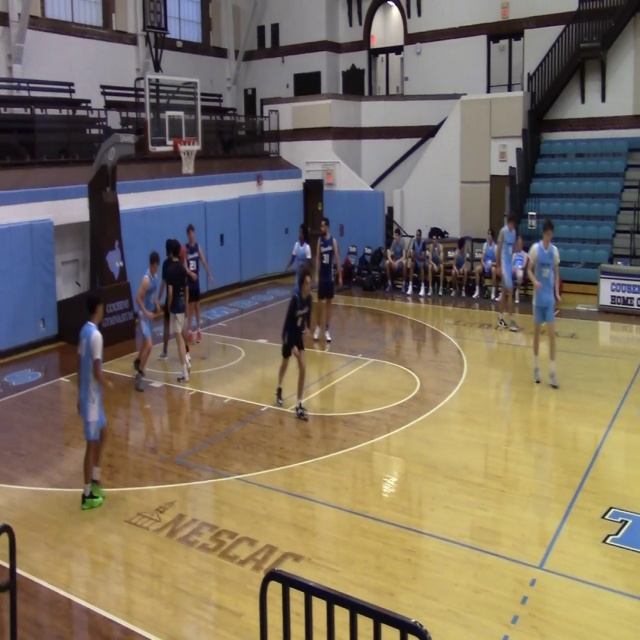Basketball: (512, 266, 524, 283), (184, 331, 194, 342)
